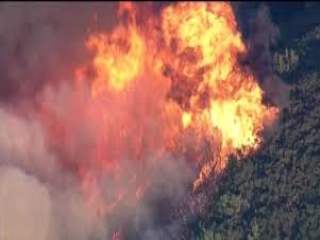fire: (107, 9, 275, 155)
smoke: (6, 94, 188, 228)
